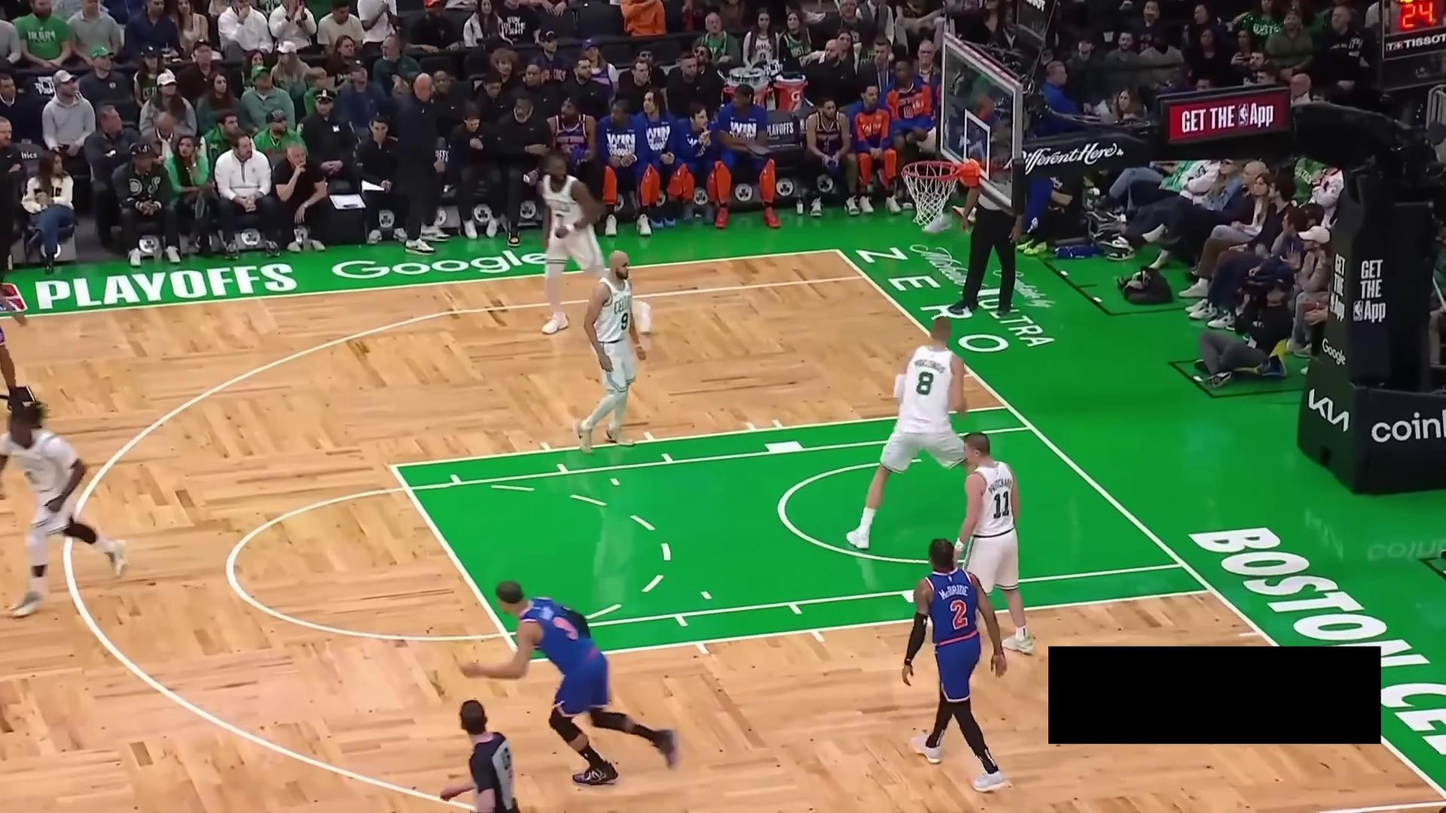number: (949, 599, 969, 629), (992, 490, 1012, 519), (917, 371, 935, 397), (555, 212, 566, 231), (620, 312, 630, 331)
player: (455, 579, 681, 787), (846, 316, 977, 553), (902, 537, 1011, 796), (1, 397, 128, 619), (529, 152, 652, 336), (958, 430, 1035, 656), (574, 249, 649, 454), (0, 277, 29, 414)
referee: (949, 169, 1026, 317), (441, 699, 521, 813)
rim: (902, 160, 962, 182)
